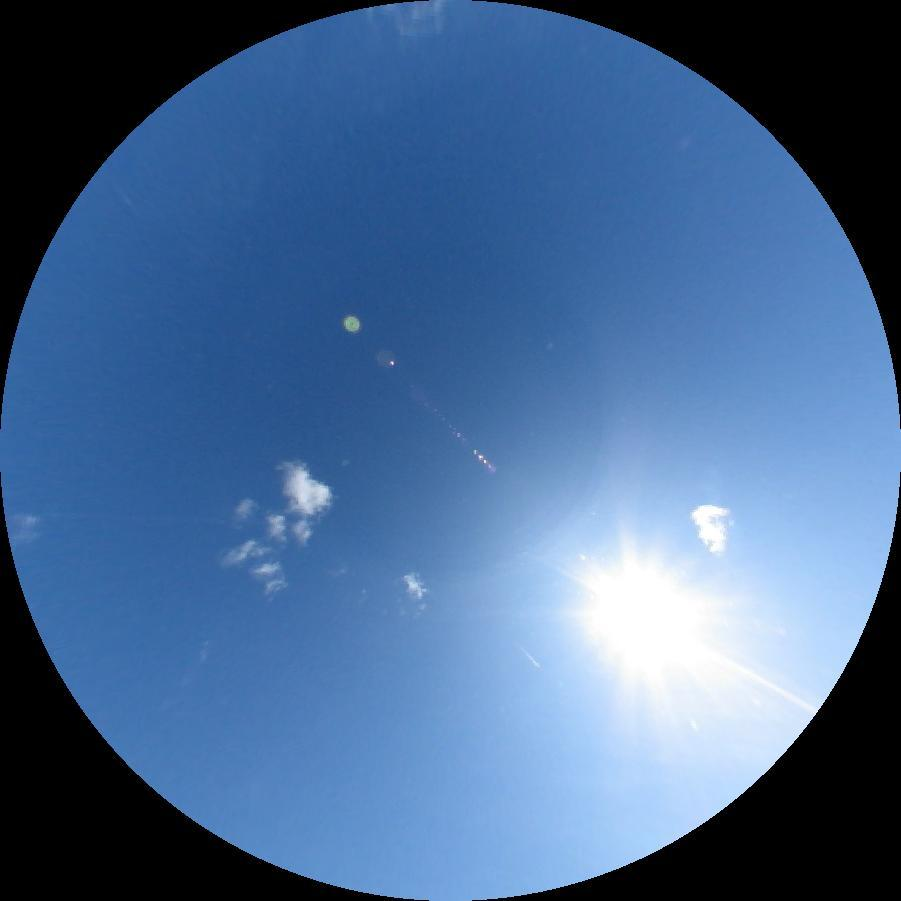contrail young: (515, 644, 542, 670)
parasite: (689, 638, 819, 715)
sun: (583, 558, 708, 664)
